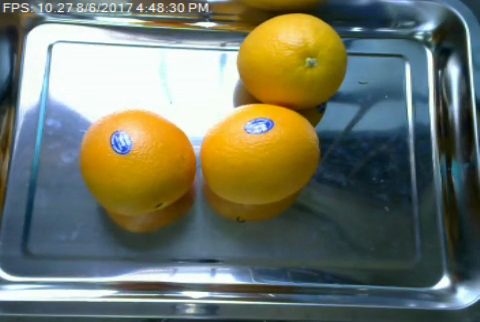Orange: (79, 106, 197, 215), (200, 104, 320, 205), (237, 11, 348, 107)
